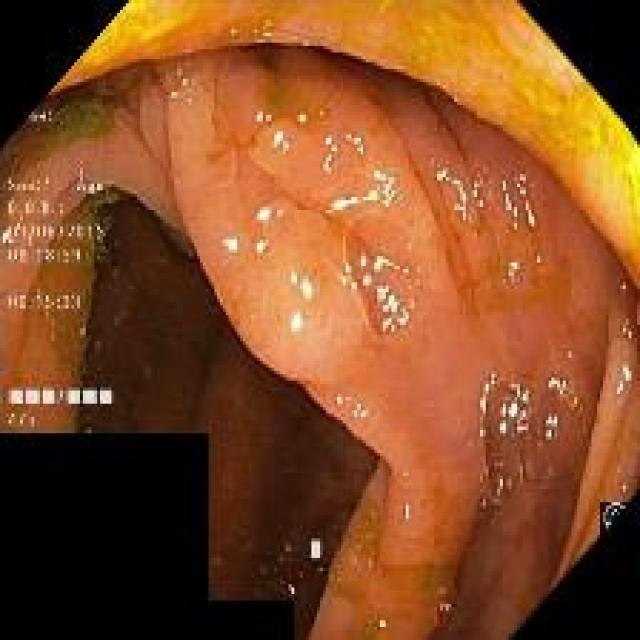Polyps: (159, 47, 484, 591)
